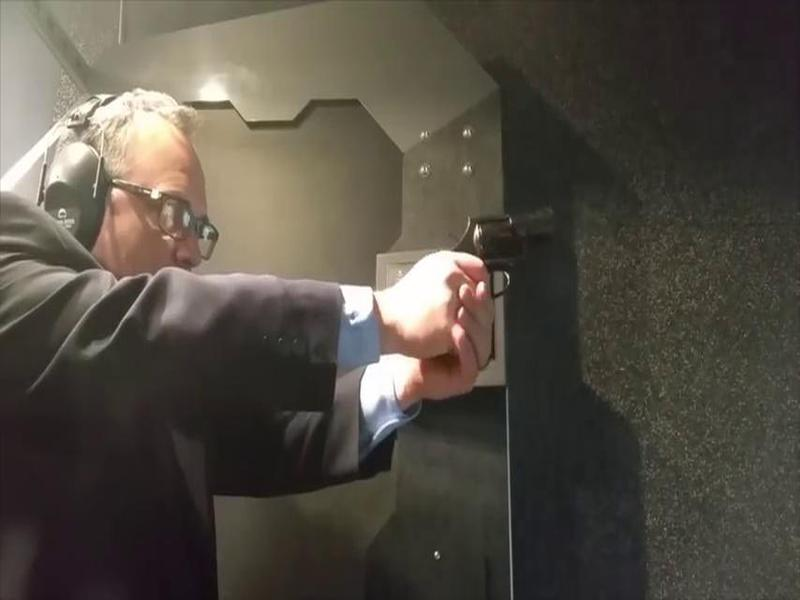Revolver: (437, 194, 557, 304)
